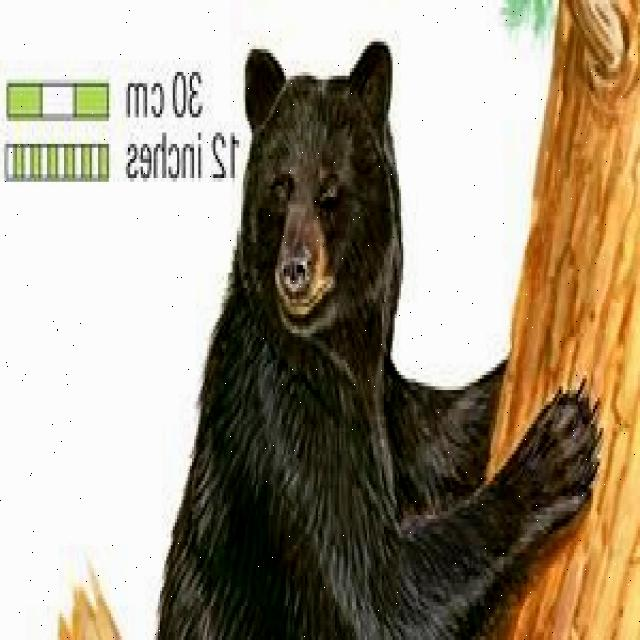bear: (182, 40, 416, 640)
